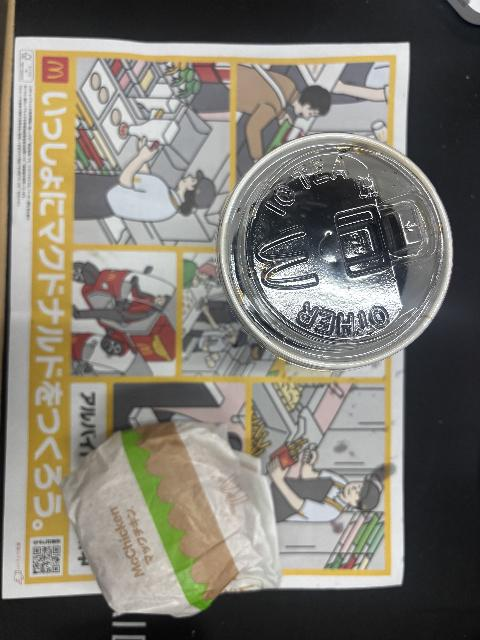burger: (60, 420, 279, 619)
drink: (215, 132, 455, 372)
